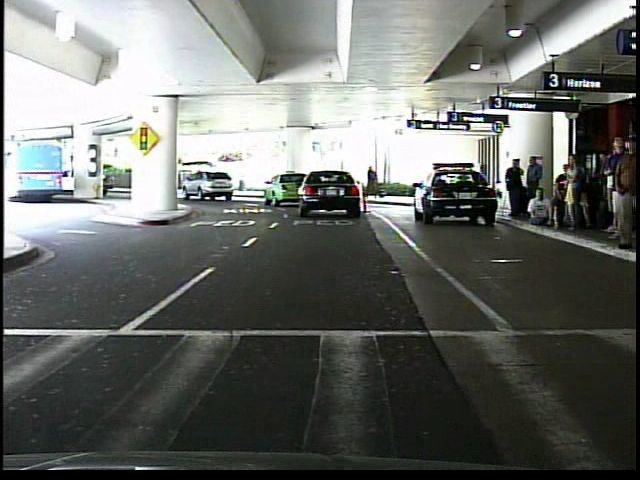person: (522, 153, 545, 219), (504, 155, 526, 220), (366, 163, 381, 203)
